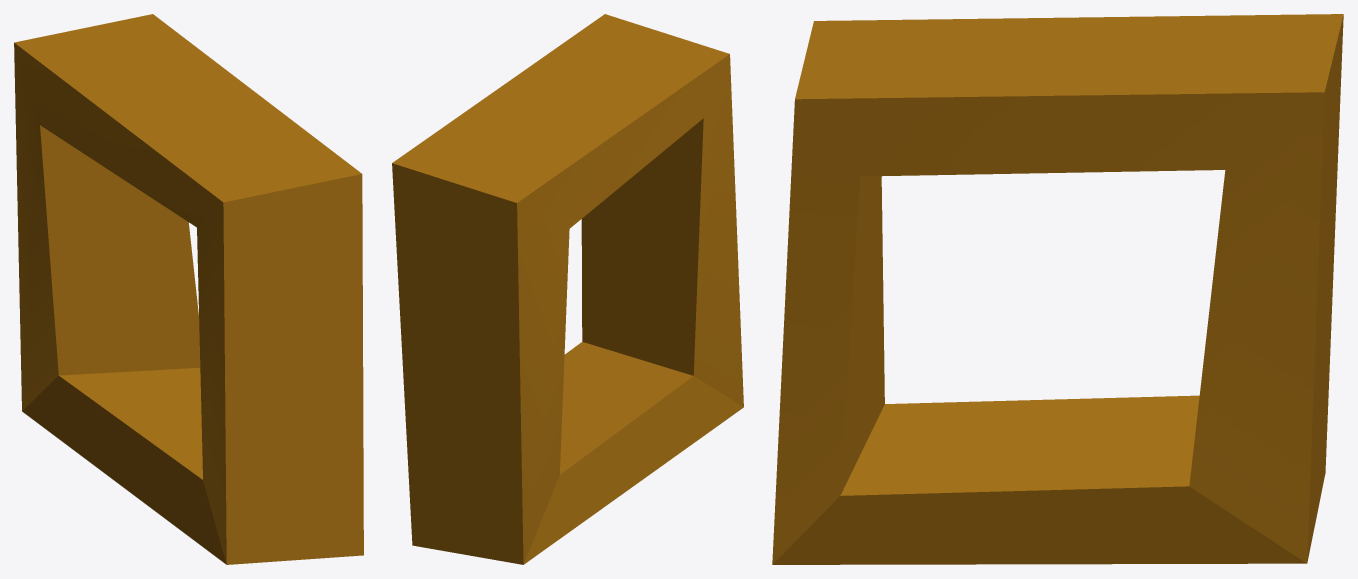
File: sideWindow_mdl.fbx
3 renders of one model, left to right at view 1: azimuth 30°, elevation 25°; view 2: azimuth 150°, elevation 25°; view 3: azimuth 270°, elevation 25°, orthographic. The views are drawn at different scales.
Visible parts, largest first — view 1: sideWindow_GEO; view 2: sideWindow_GEO; view 3: sideWindow_GEO.
Part boxes in pixels (<box>): sideWindow_GEO: <box>14,14,363,564</box>; sideWindow_GEO: <box>392,14,743,564</box>; sideWindow_GEO: <box>772,14,1343,564</box>.
Bounding box in the file's own units: 68.08 × 167 × 180.
